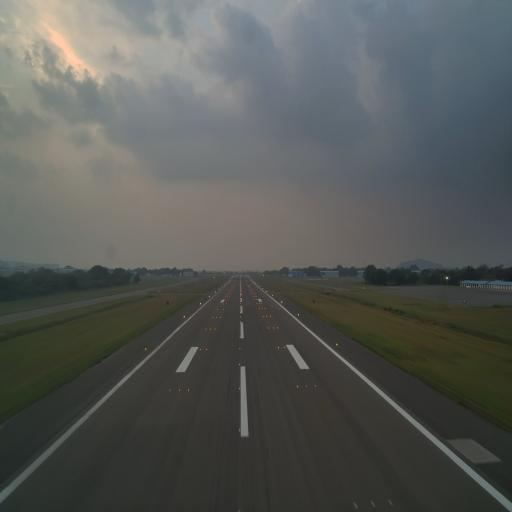on: (238, 426, 242, 434), (168, 387, 172, 393), (178, 387, 181, 393), (187, 386, 190, 392), (193, 347, 196, 353), (144, 347, 147, 352), (238, 385, 241, 390), (296, 384, 299, 389), (199, 347, 202, 352), (289, 345, 292, 350), (314, 382, 316, 389), (238, 362, 241, 366), (277, 346, 280, 350), (283, 346, 286, 350), (306, 384, 308, 389), (239, 346, 241, 350), (336, 343, 338, 346), (205, 348, 207, 351)
